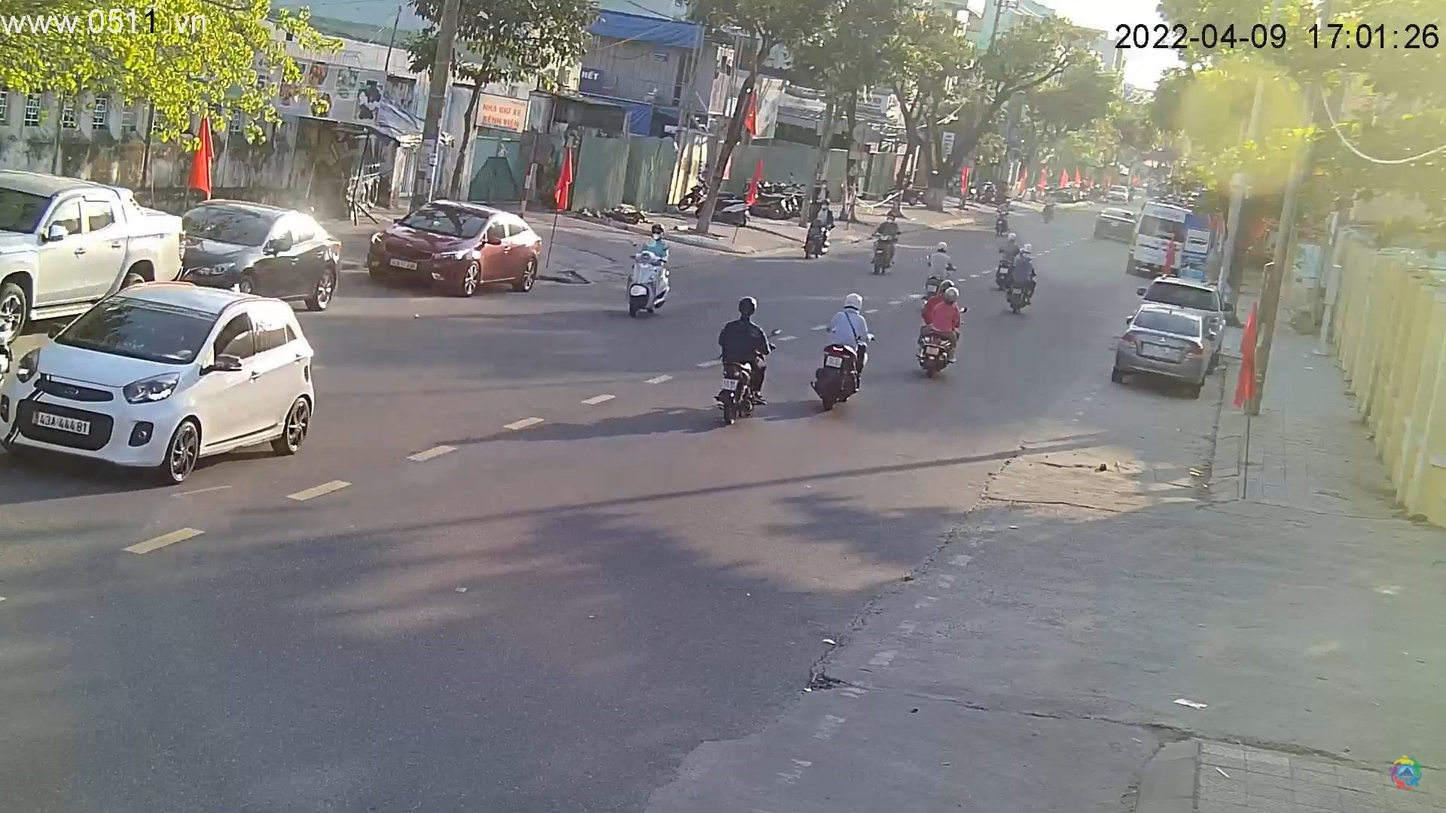car: (2, 282, 322, 483), (2, 166, 191, 357), (178, 202, 349, 312), (370, 205, 549, 298)
motorbike: (626, 257, 674, 317)
